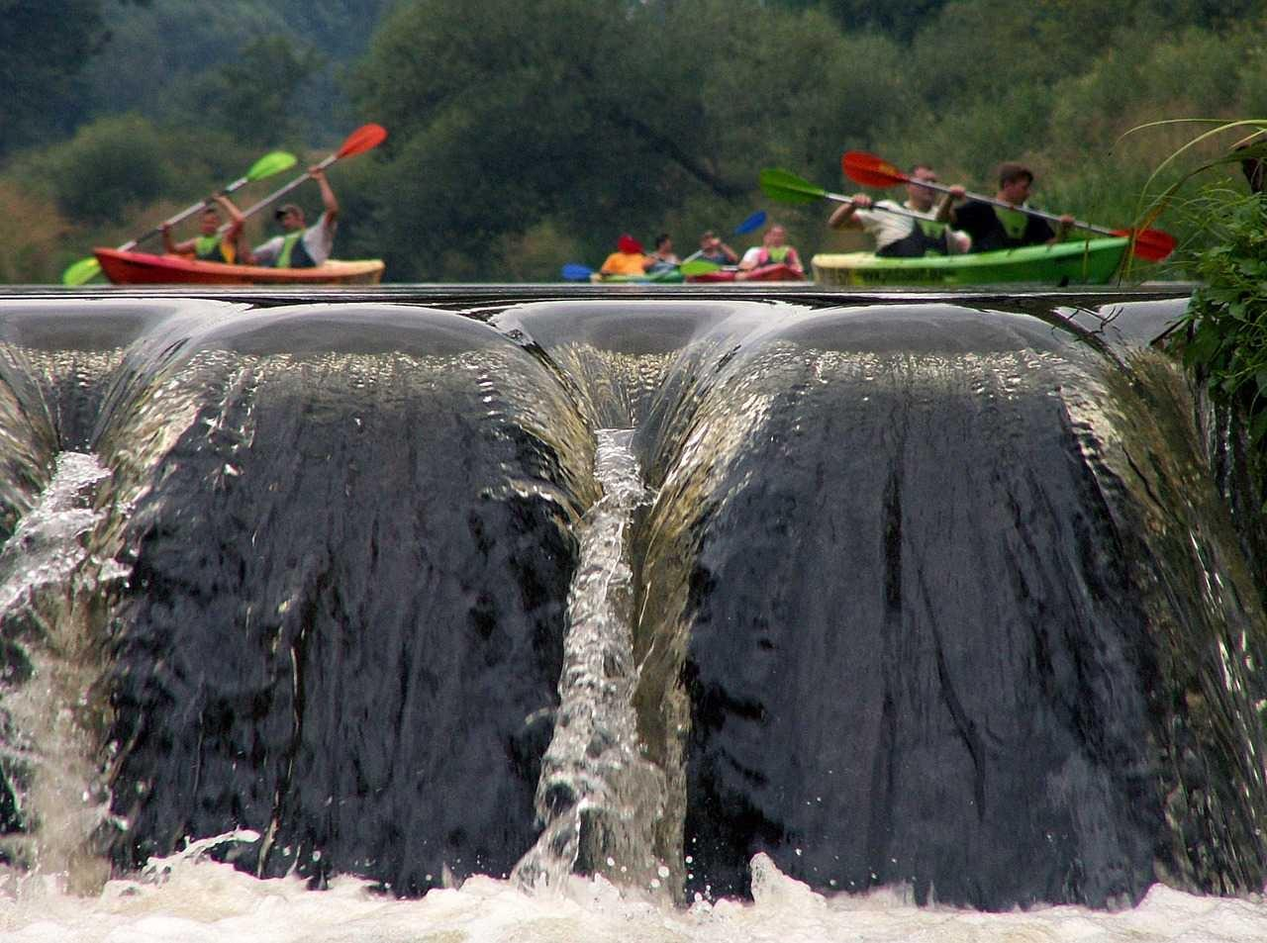kayak: (814, 228, 1141, 289), (94, 247, 386, 290)
